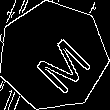M_NW: (19, 22, 88, 90)
